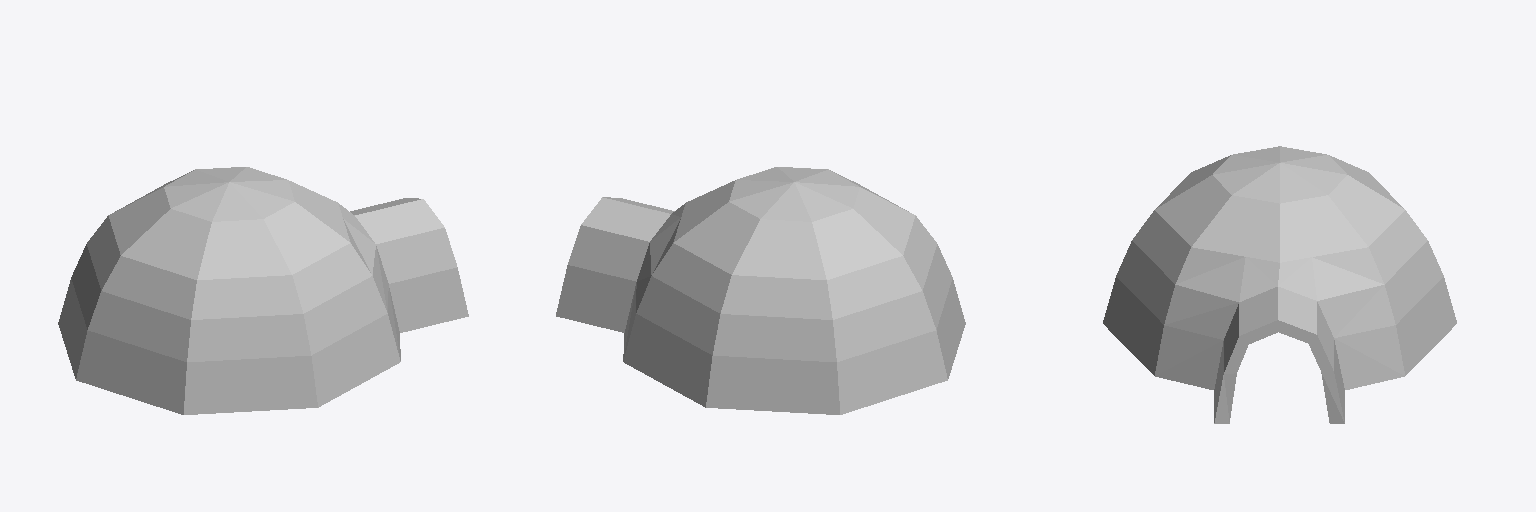
File: Igloo.obj
3 views of the same model, side by side, from view 1: azimuth 30°, elevation 25°; view 2: azimuth 150°, elevation 25°; view 3: azimuth 270°, elevation 25° (orthographic).
Parts seen in each view (by area): view 1: polySurface1; view 2: polySurface1; view 3: polySurface1.
Boxes of the visible parts, <box> form: polySurface1: <box>58,167,468,414</box>; polySurface1: <box>556,167,965,414</box>; polySurface1: <box>1103,146,1456,423</box>.
Size of the model in its own units: 14.06 by 6 by 11.99.